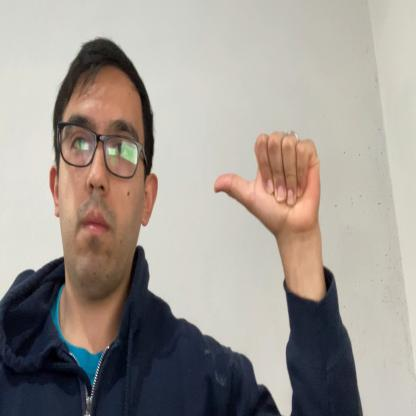A: (214, 128, 322, 234)
